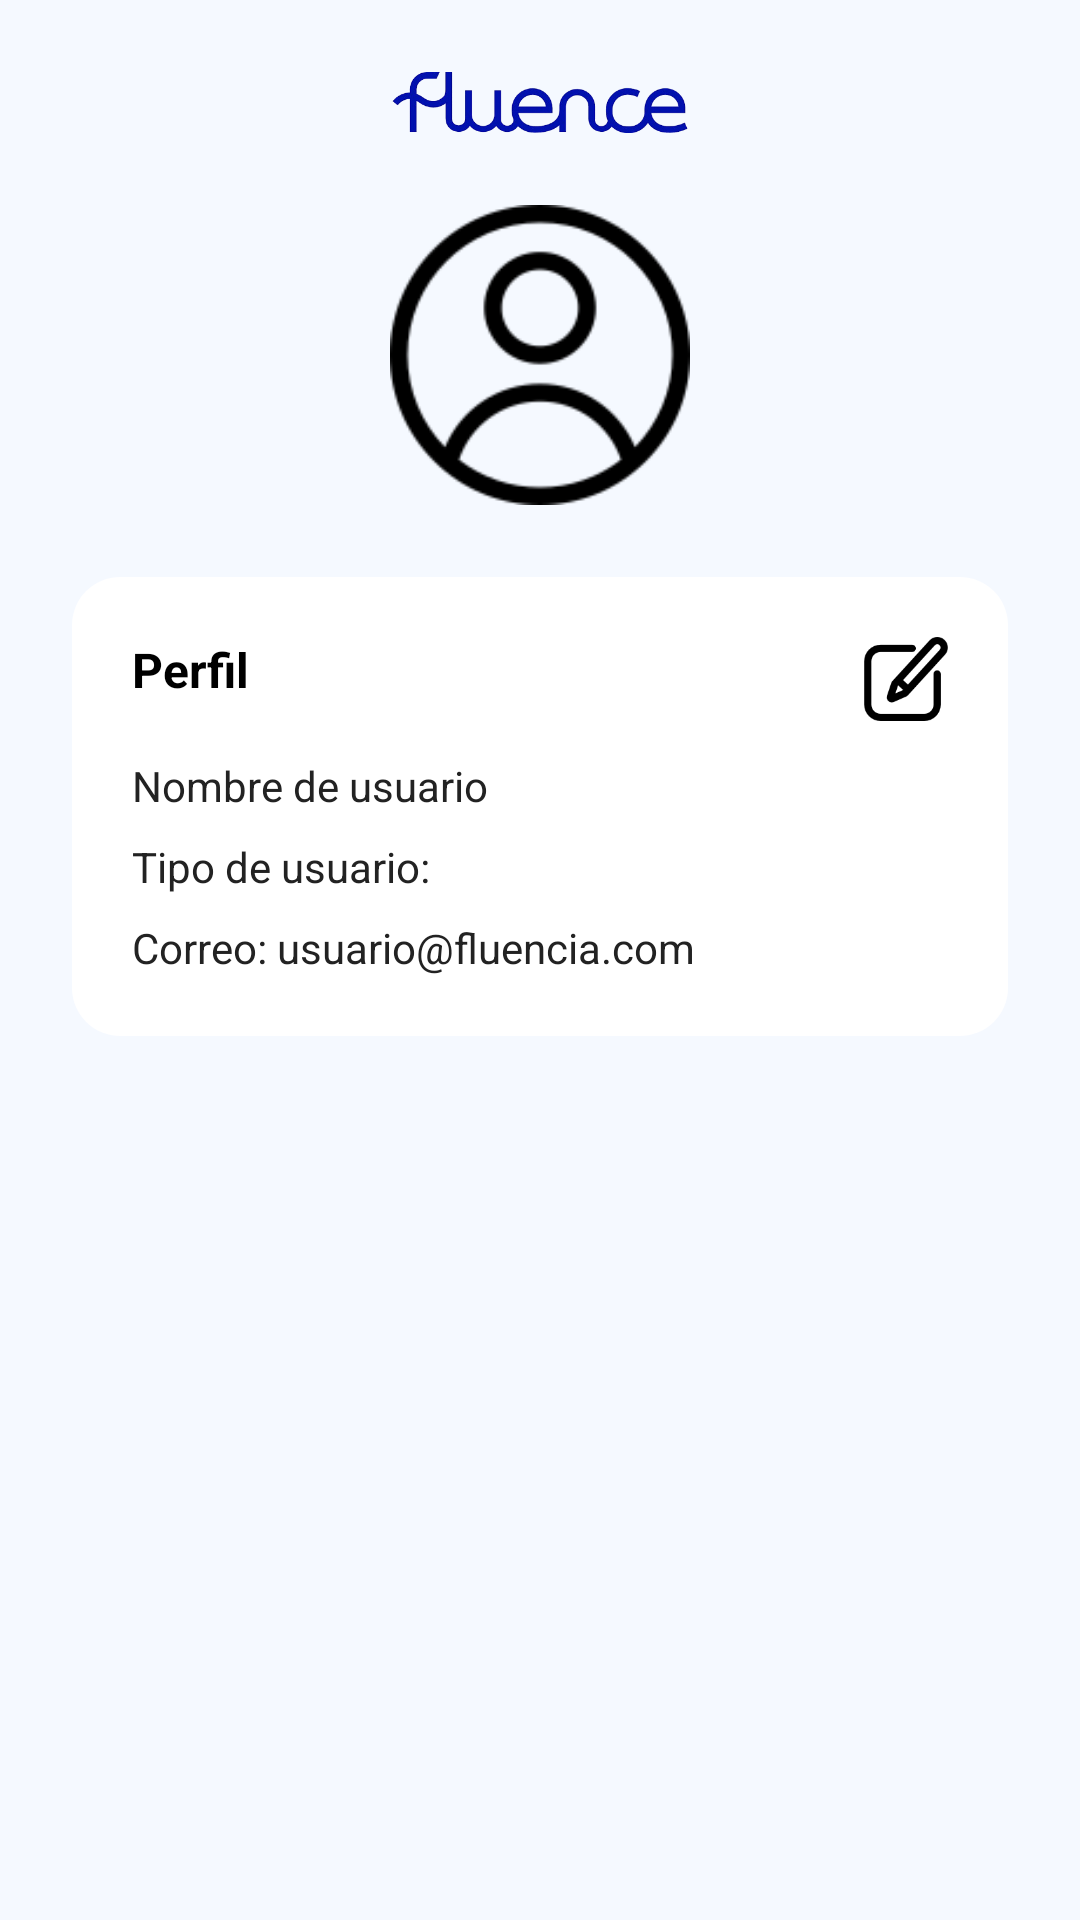

Icon bounding boxes for this 1080 x 1920 phone screenshot, format (x1, y1, x2, y2):
Avatar de usuario: (390, 205, 690, 505)
Editar perfil: (864, 637, 948, 721)
